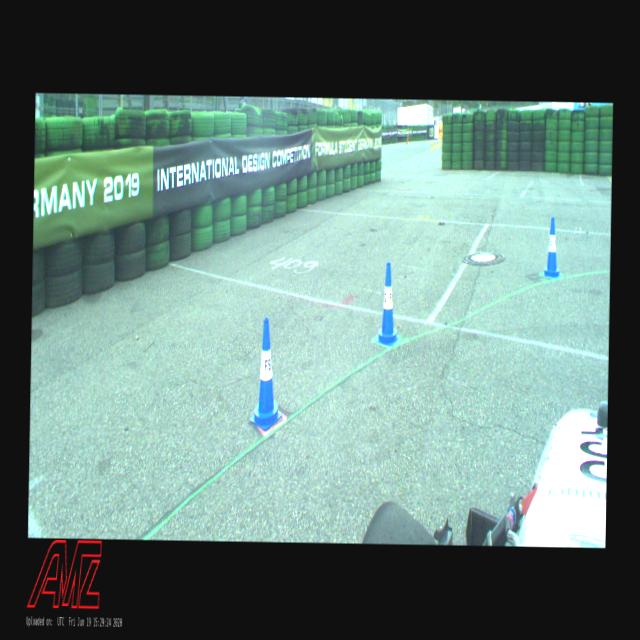blue_cone: (250, 317, 284, 430), (376, 262, 400, 346), (542, 216, 562, 278)
yellow_cone: (430, 141, 432, 150), (433, 139, 435, 148), (436, 139, 438, 147), (438, 138, 440, 146)
